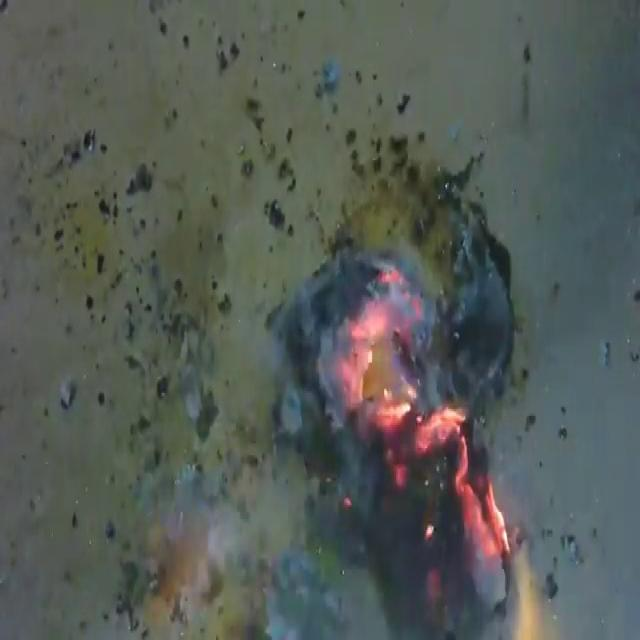Fire: (282, 203, 561, 640)
